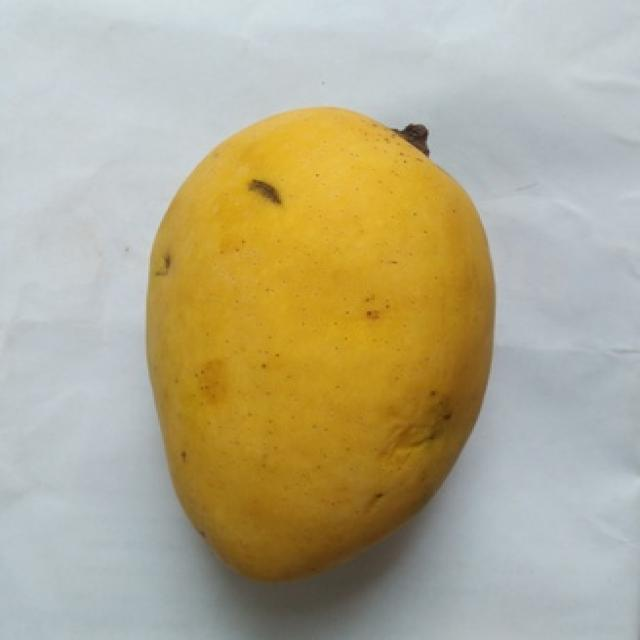Mango: (148, 109, 494, 578)
